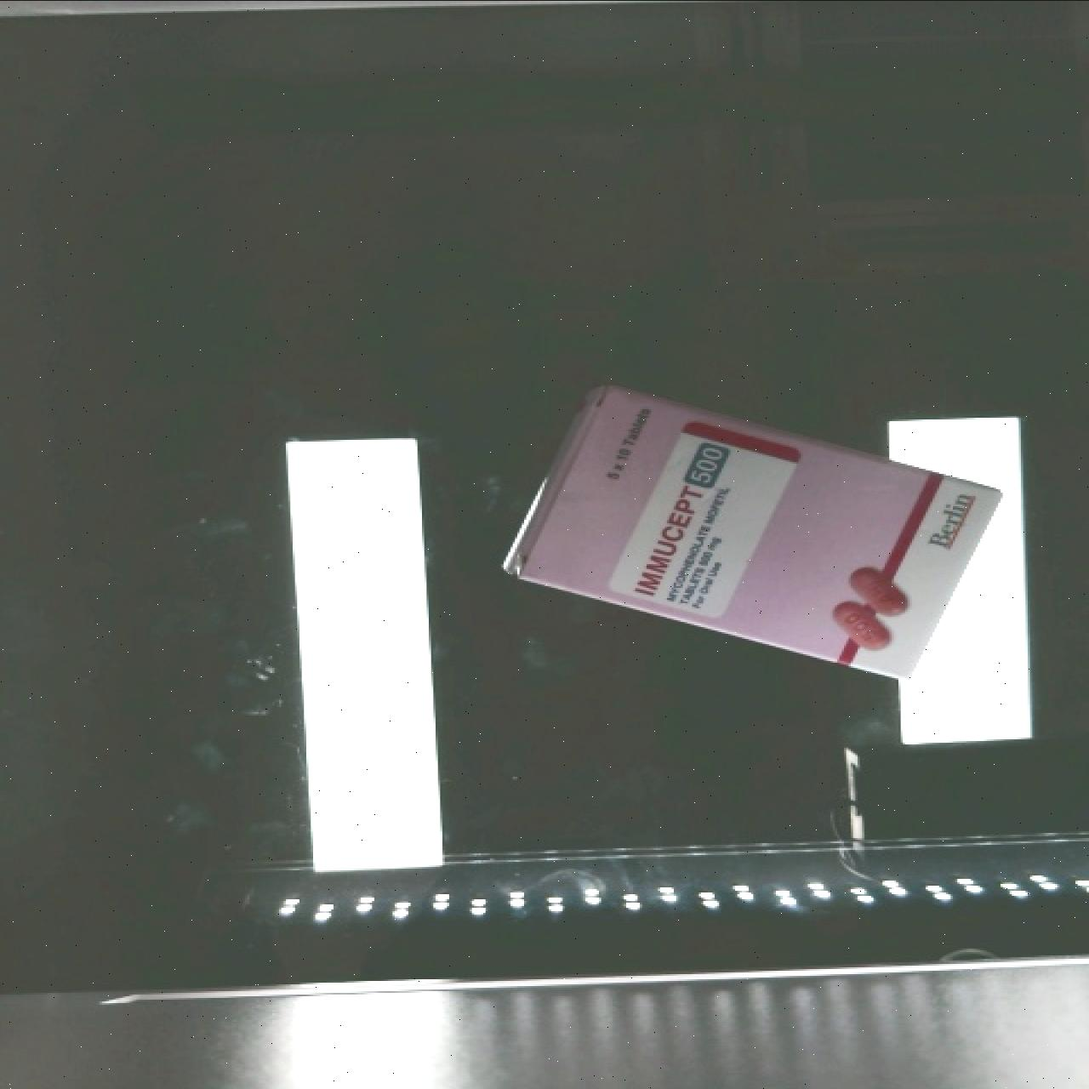medicine_label_obb: (604, 409, 750, 618)
